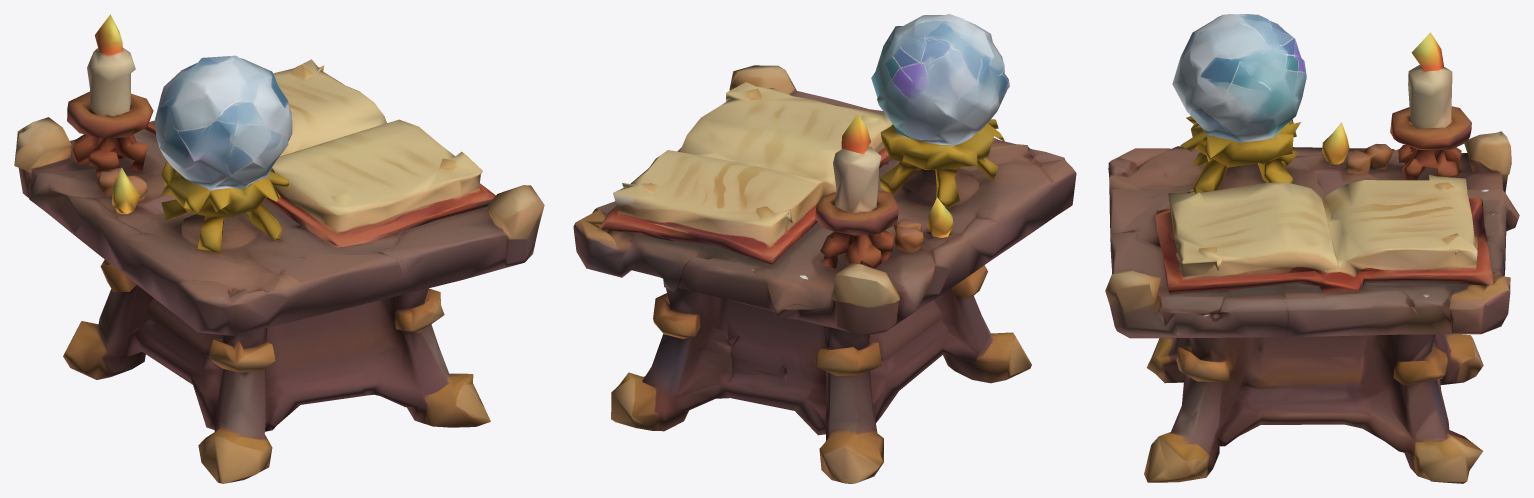
The model's file is enchanting_table.glb.
3 views of the same model, side by side, from view 1: azimuth 30°, elevation 25°; view 2: azimuth 150°, elevation 25°; view 3: azimuth 270°, elevation 25° (orthographic). The views are drawn at different scales.
Parts seen in each view (by area): view 1: tripo_node_a6d995a5-4fc3-4814-b604-37ed645109df; view 2: tripo_node_a6d995a5-4fc3-4814-b604-37ed645109df; view 3: tripo_node_a6d995a5-4fc3-4814-b604-37ed645109df.
Boxes of the visible parts, box(x1,y1,x2,y2) form: tripo_node_a6d995a5-4fc3-4814-b604-37ed645109df: box(14, 14, 544, 483); tripo_node_a6d995a5-4fc3-4814-b604-37ed645109df: box(573, 14, 1076, 483); tripo_node_a6d995a5-4fc3-4814-b604-37ed645109df: box(1105, 14, 1519, 483).
Size of the model in its own units: 0.9228 by 0.9687 by 1.
Materials: 1 (1 with a texture image).
